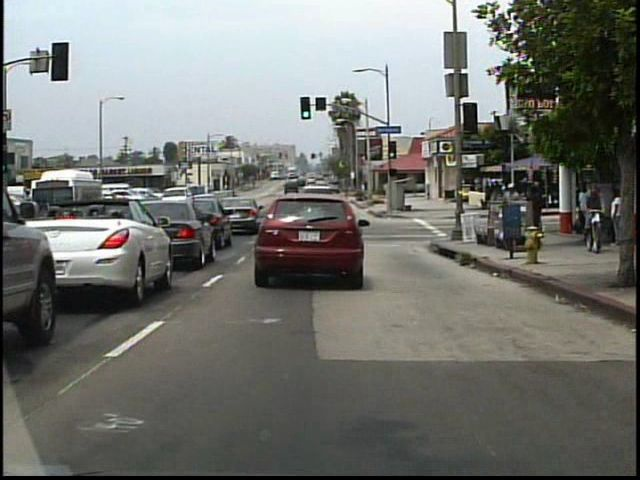person: (527, 176, 547, 241), (503, 180, 525, 237), (587, 182, 607, 239), (607, 189, 625, 246), (579, 182, 588, 236)
